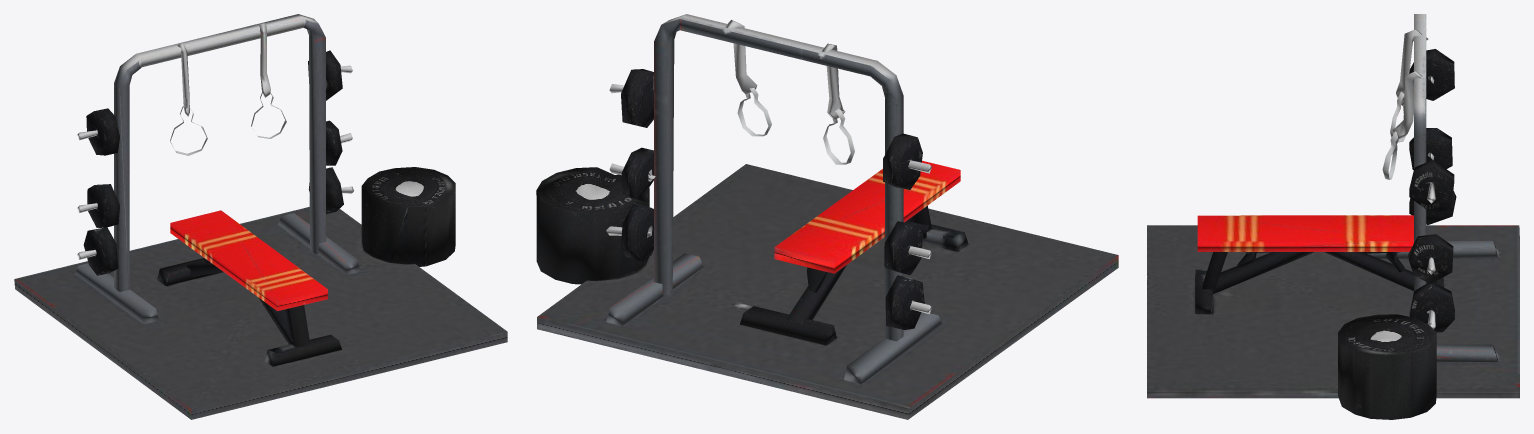
The model's file is gym_weights.glb.
3 renders of one model, left to right at view 1: azimuth 30°, elevation 25°; view 2: azimuth 150°, elevation 25°; view 3: azimuth 270°, elevation 25°, orthographic. The views are drawn at different scales.
Size of the model in its own units: 2 by 1.31 by 1.65.
1 material, 1 textured.
